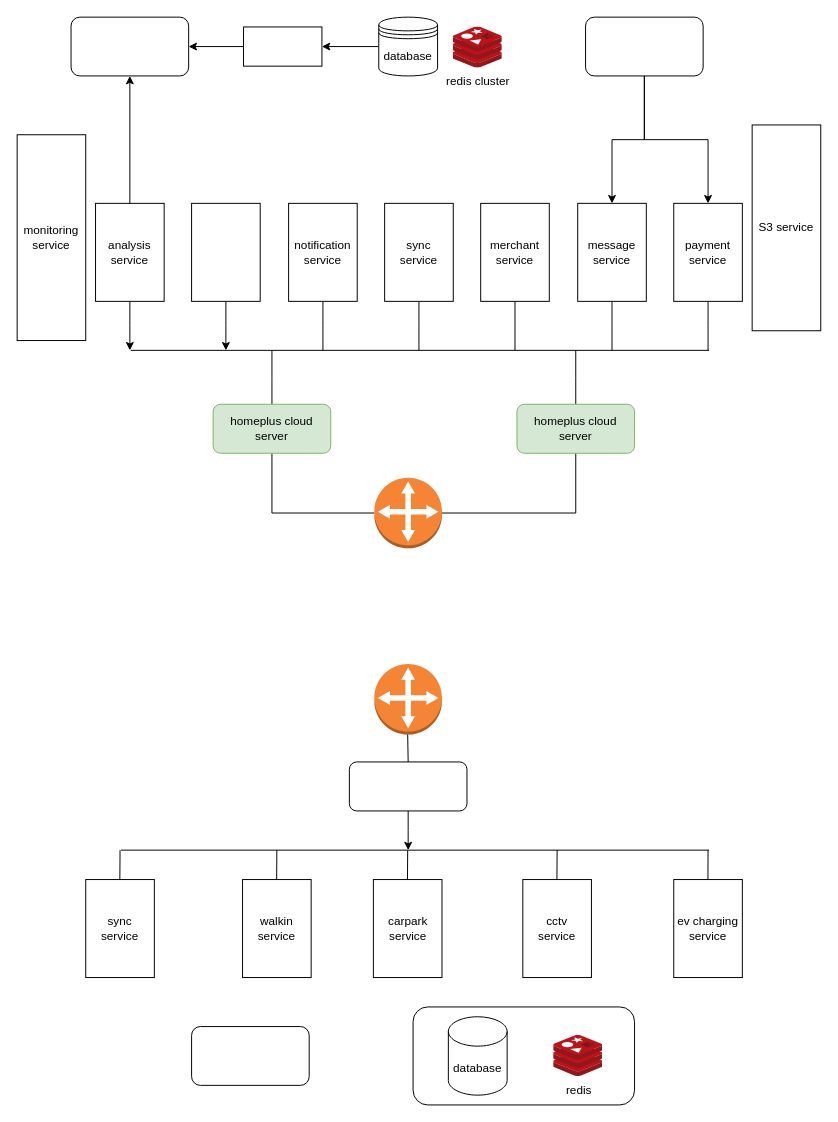
Some shapes in this 838 by 1122 pixel diagram are drawn without their labels. Each missing label, with the centre of its shape:
device manage: (250,1055)
dump data service: (282,46)
elastic search: (129,46)
kafka service: (644,46)
local server: (407,786)
tender service: (225,251)
